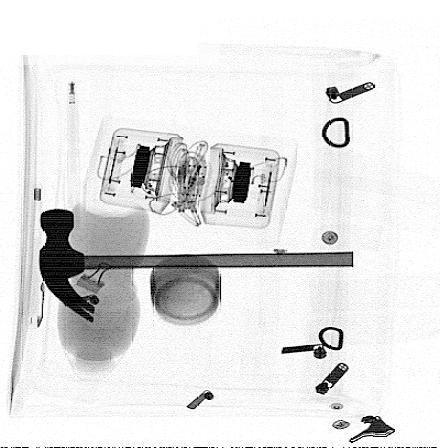Hammer: (38, 207, 353, 324)
